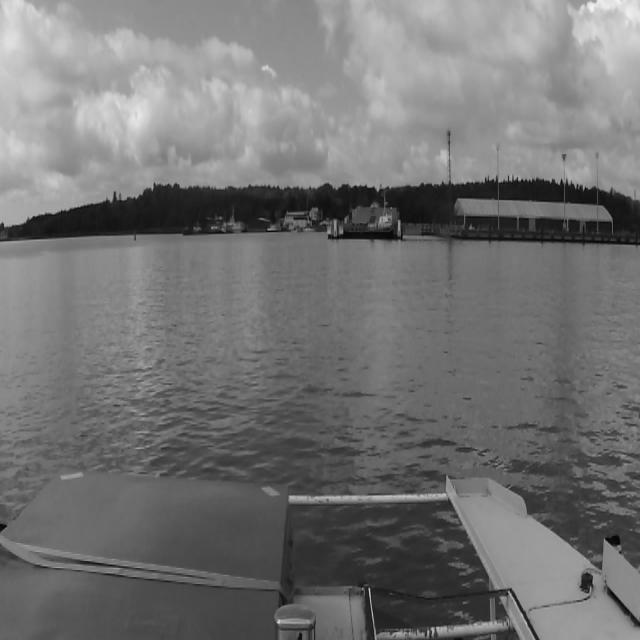ship: (220, 206, 248, 233), (202, 220, 220, 234)
